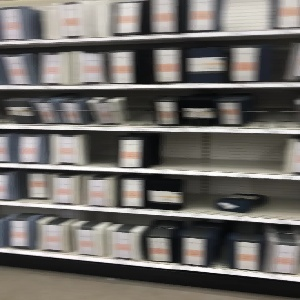void: (183, 179, 298, 223), (153, 132, 280, 169), (245, 88, 300, 123), (261, 35, 300, 82), (224, 1, 273, 30), (84, 130, 115, 167), (125, 93, 151, 125)
